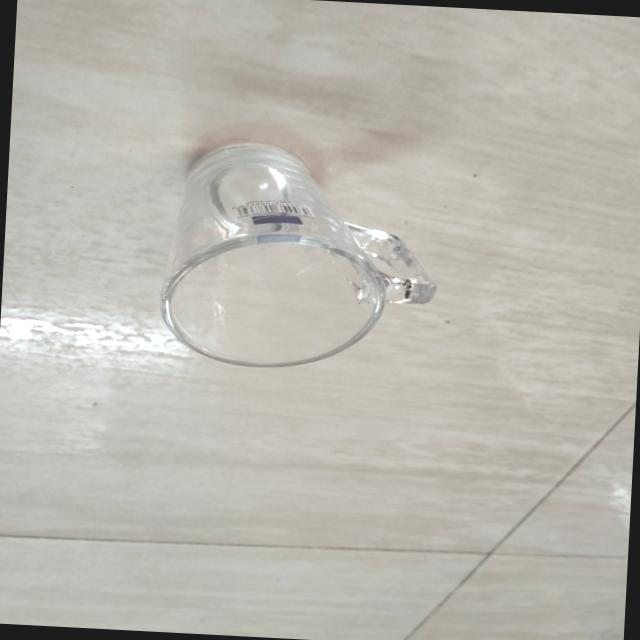glass-VX4N: (152, 154, 436, 378)
